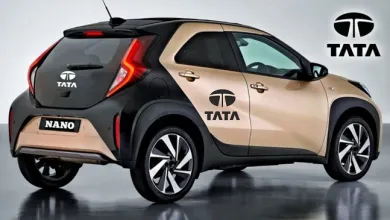Nano: (6, 18, 383, 204)
